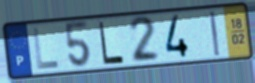2: (127, 15, 162, 66)
4: (164, 13, 191, 61)
5: (63, 19, 93, 71)
I: (208, 10, 222, 58)
L: (31, 26, 62, 72), (97, 20, 126, 67)
